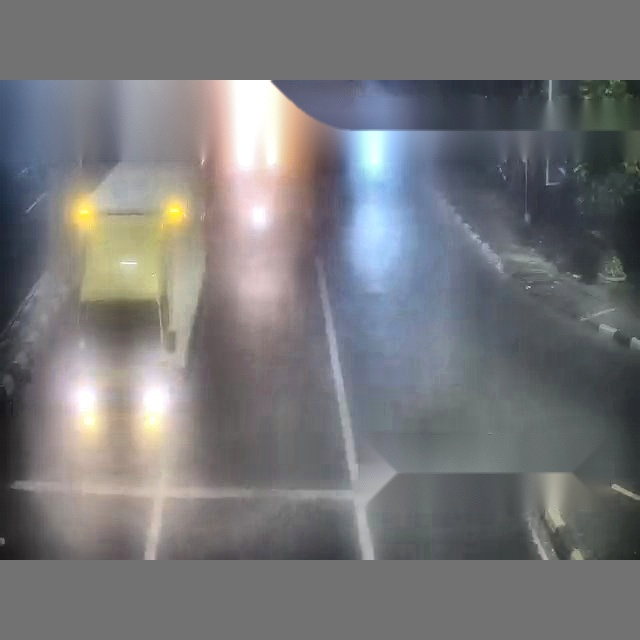Bis: (192, 99, 640, 558)
